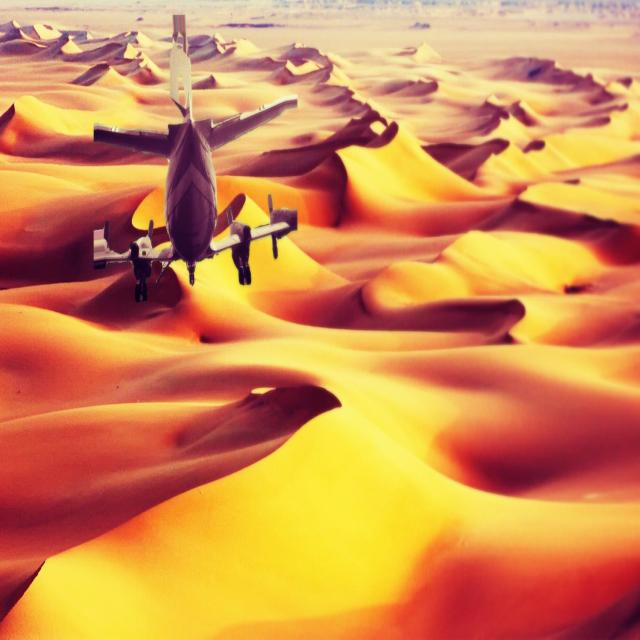airplane: (92, 13, 298, 303)
